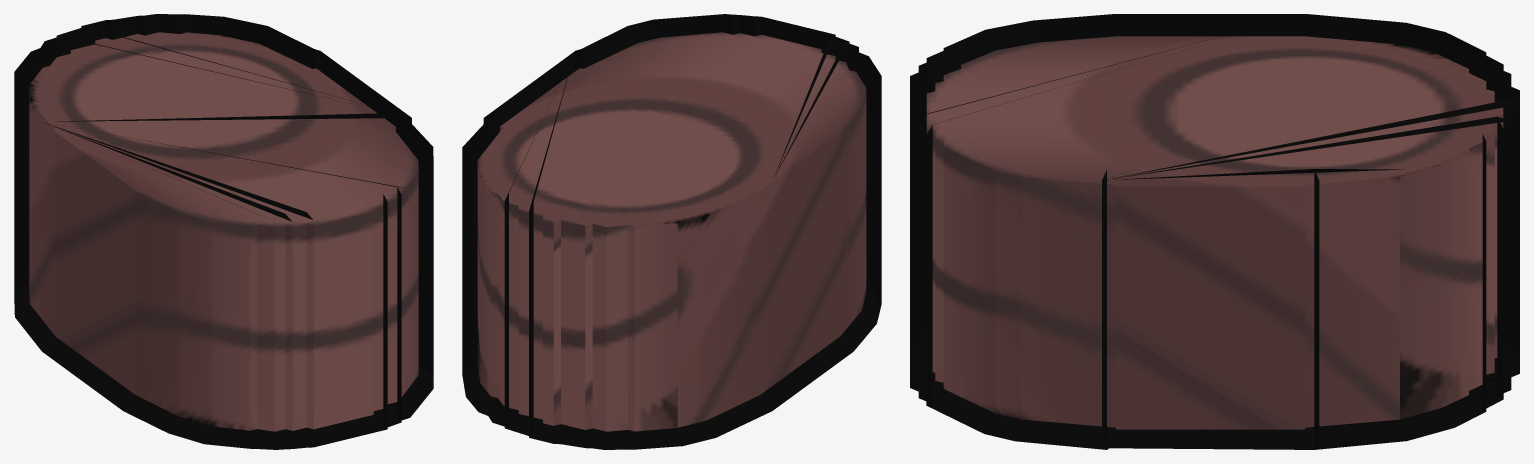
The model's file is Building_AncientChembarrel_Things_Building_Ancient_Chemfuel_AncientChembarrel_AncientChembarrelE.glb.
3 views of the same model, side by side, from view 1: azimuth 30°, elevation 25°; view 2: azimuth 150°, elevation 25°; view 3: azimuth 270°, elevation 25° (orthographic). The views are drawn at different scales.
Visible parts, largest first — view 1: Body, Outline; view 2: Body, Outline; view 3: Body, Outline.
Boxes of the visible parts, x1,y1,x2,y2 form: Body: (29, 32, 418, 431); Outline: (14, 14, 433, 449); Body: (477, 32, 866, 431); Outline: (462, 14, 881, 449); Body: (926, 36, 1503, 429); Outline: (910, 14, 1519, 449).
Bounding box in the file's own units: 0.629 × 0.5025 × 0.9882.
2 materials, 1 textured.
